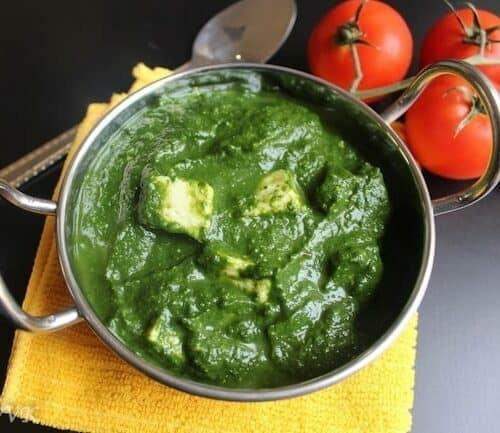PalakPaneer: (70, 83, 400, 386)
